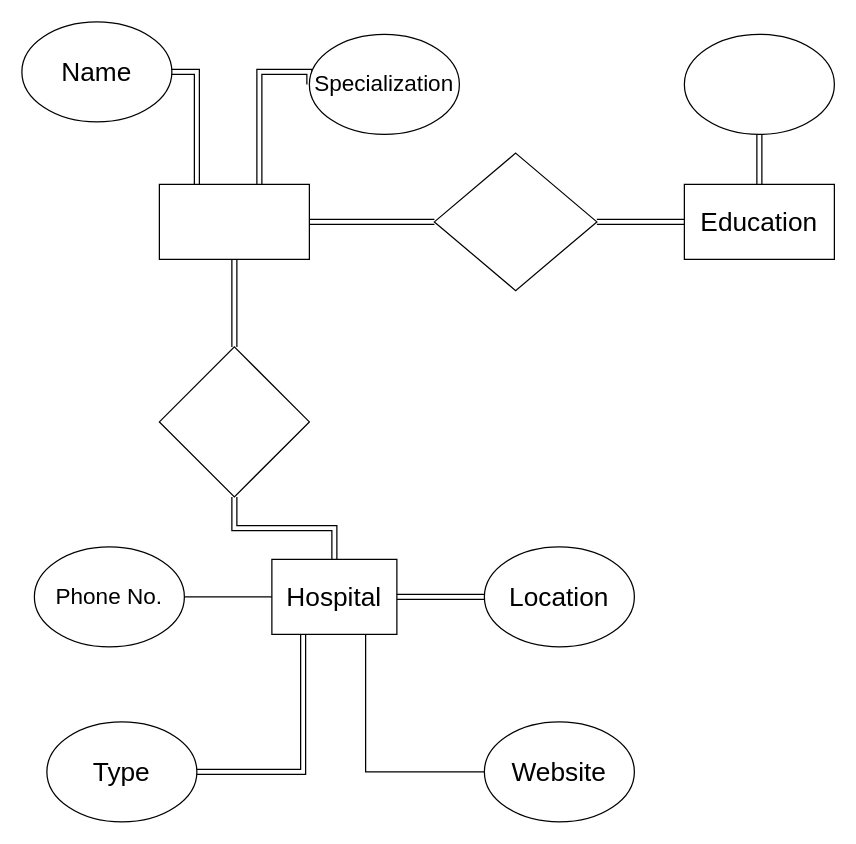
Some shapes in this 856 by 844 pixel diagram are drawn without their labels. The shapes that lost their labels are listed below. From the top down, each one's box as (x1, y1, x2, y2) in pixels, then its label:
(683, 33, 834, 134): Qualification
(158, 183, 309, 259): Doctor
(433, 152, 597, 291): Qualified In
(158, 346, 309, 497): Practices In
